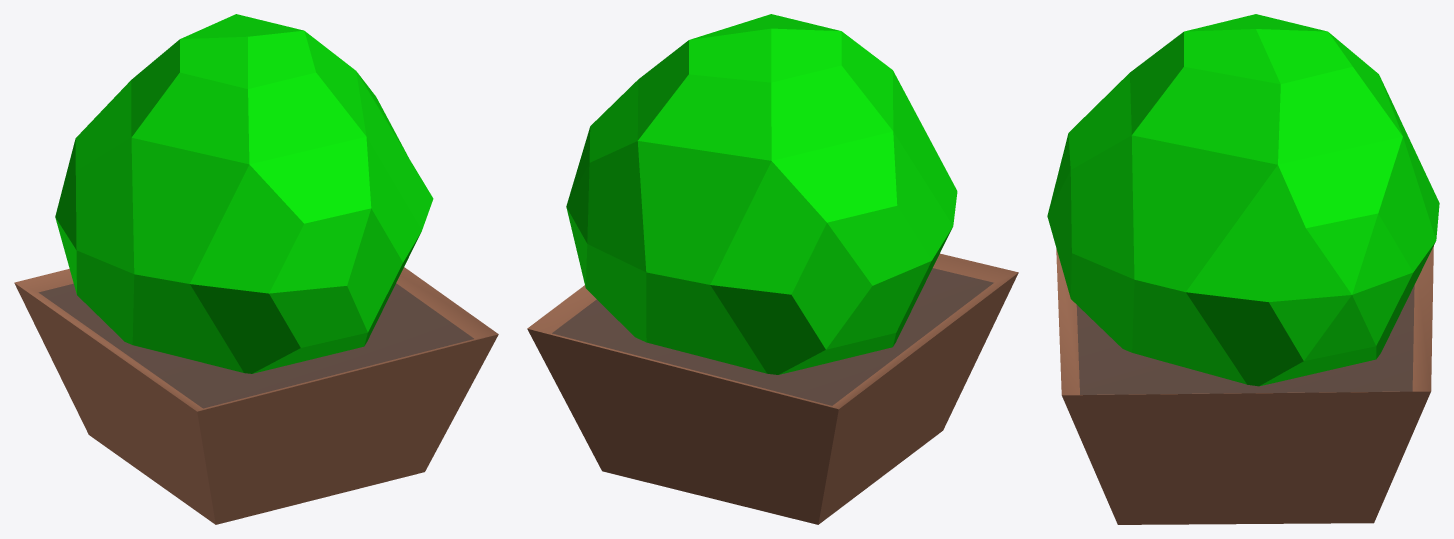
File: Prop_PotPlant_Mod_01 (1).fbx
3 views of the same model, side by side, from view 1: azimuth 30°, elevation 25°; view 2: azimuth 150°, elevation 25°; view 3: azimuth 270°, elevation 25° (orthographic). The views are drawn at different scales.
Visible parts, largest first — view 1: PotPlant; view 2: PotPlant; view 3: PotPlant.
Boxes of the visible parts, box(x1,y1,x2,y2) form: PotPlant: box(14, 14, 498, 524); PotPlant: box(527, 14, 1018, 524); PotPlant: box(1047, 14, 1439, 524).
Size of the model in its own units: 0.7503 by 0.8887 by 0.7206.
